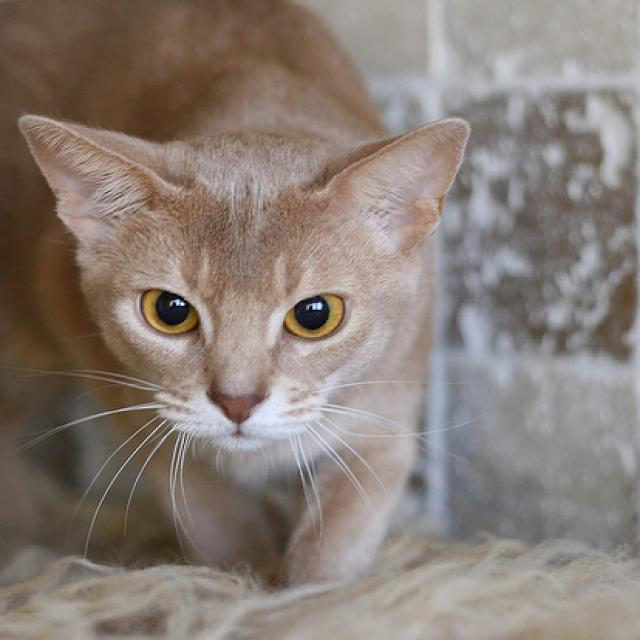Abyssinian: (0, 0, 475, 599)
